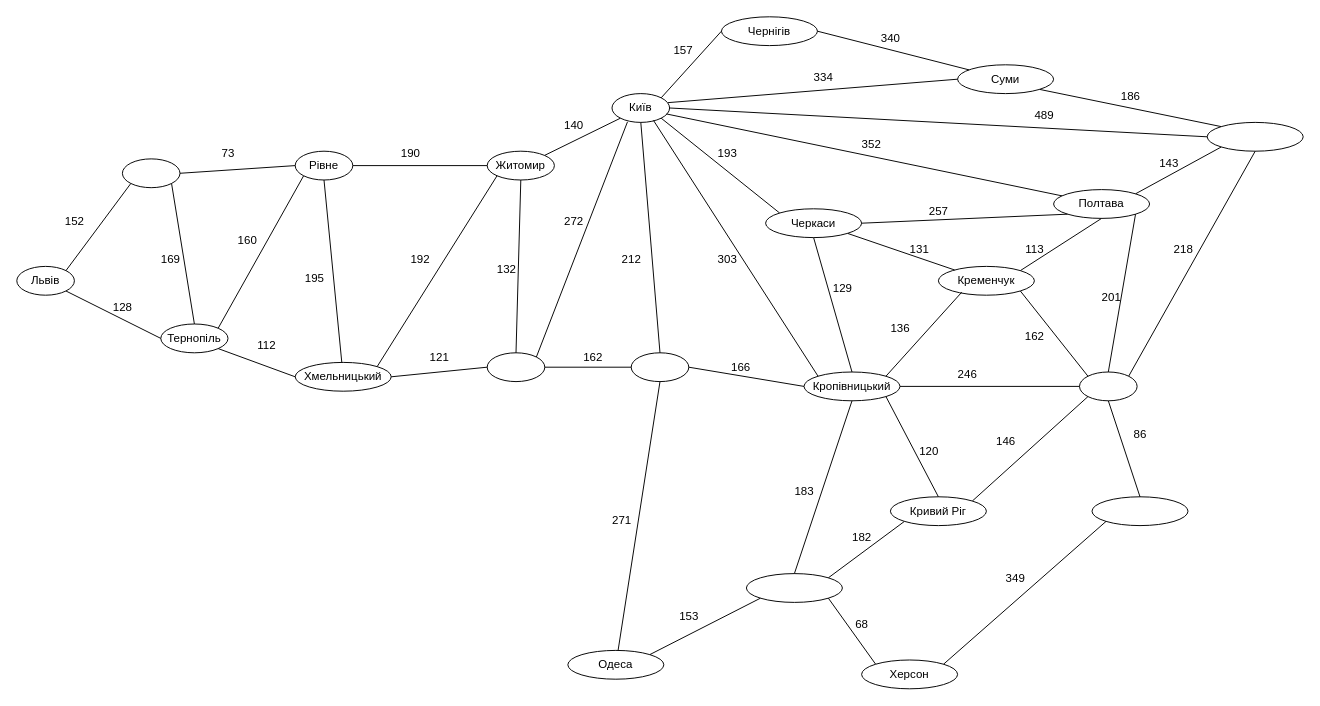
Image size: 1320x706. Some labels were removed from this diagram. The centre of each missing label's shape, as x and y in pixels:
Вінниця: (x=515, y=367)
Дніпро: (x=1108, y=386)
Запоріжжя: (x=1139, y=511)
Луцьк: (x=150, y=173)
Миколаїв: (x=793, y=587)
Умань: (x=659, y=367)
Харків: (x=1254, y=136)
